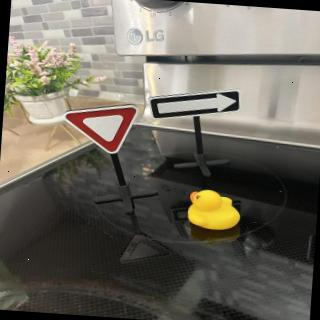duck_regular: (184, 188, 244, 235)
sign_oneway_right: (148, 82, 244, 126)
sign_yield: (61, 100, 141, 156)
